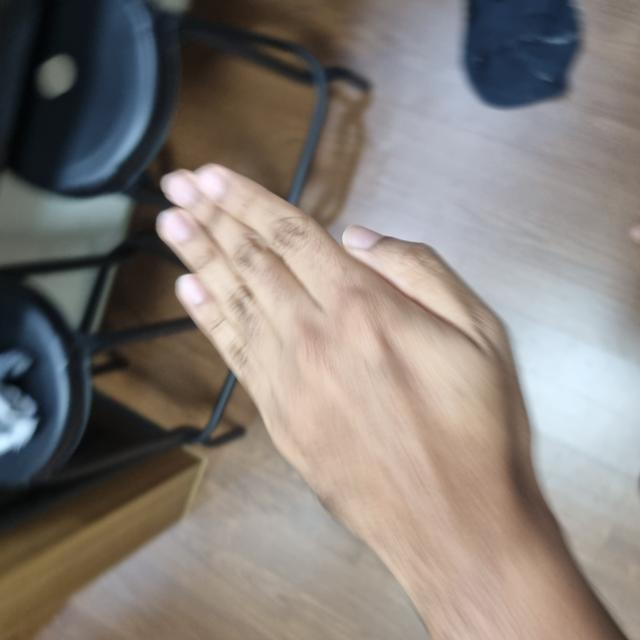Paper: (71, 158, 472, 527)
